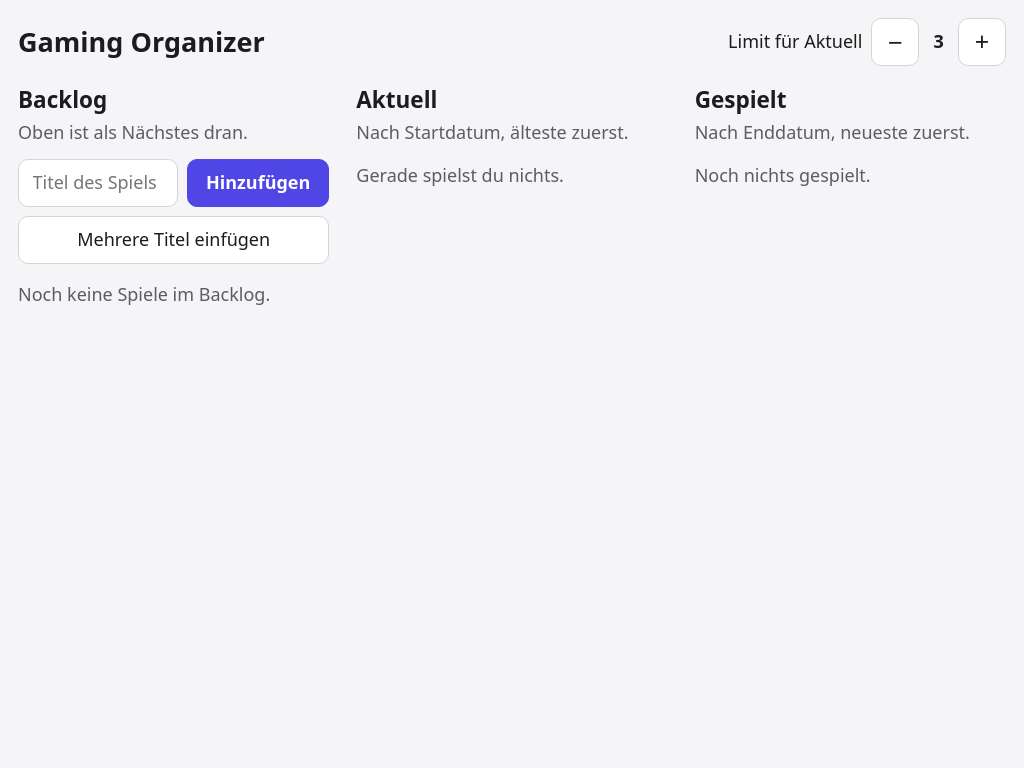
App › moves a Game between the views with buttons
Expected: the heading "Gaming Organizer" is shown, [18,23,265,61]
In the field labelled "Titel des Spiels": (98, 183) [18,159,178,207], type "Hades"
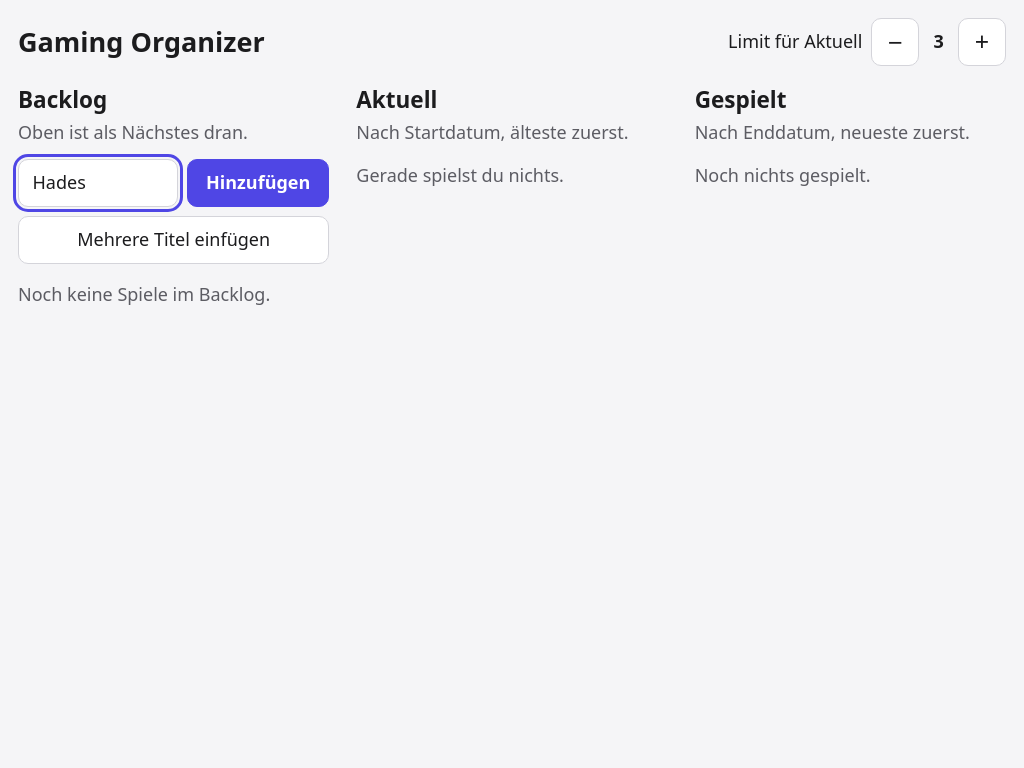
Click the button "Hinzufügen": (258, 183) [187,159,329,207]
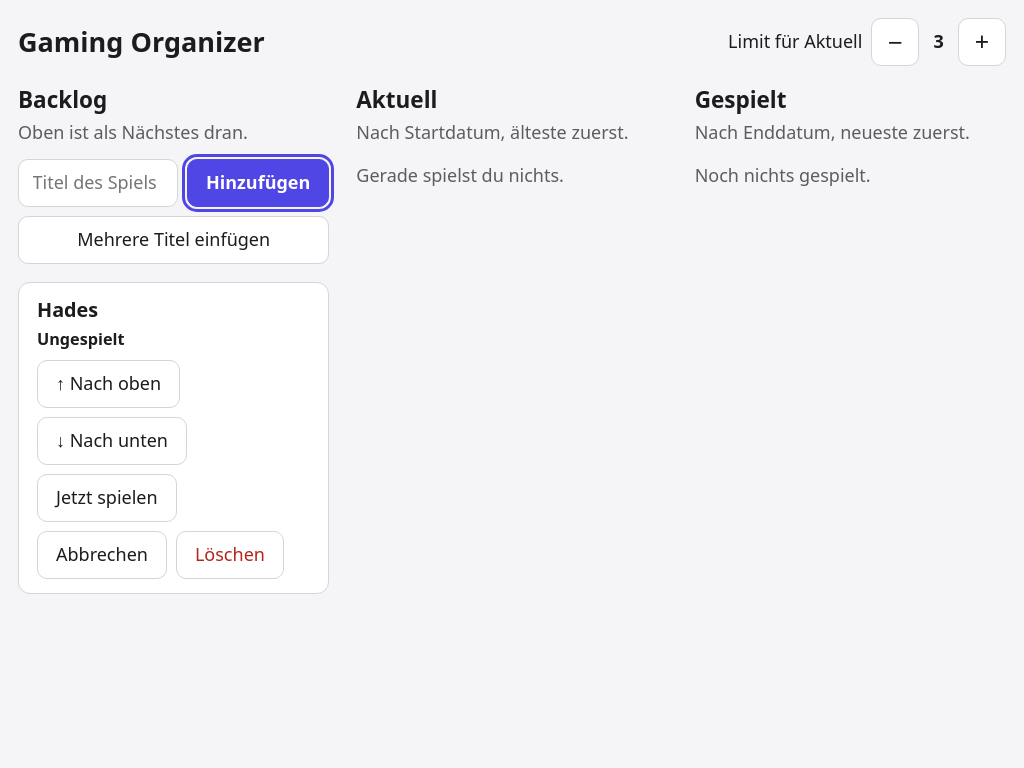
Click the button "Jetzt spielen": (107, 498) [37,474,177,522]
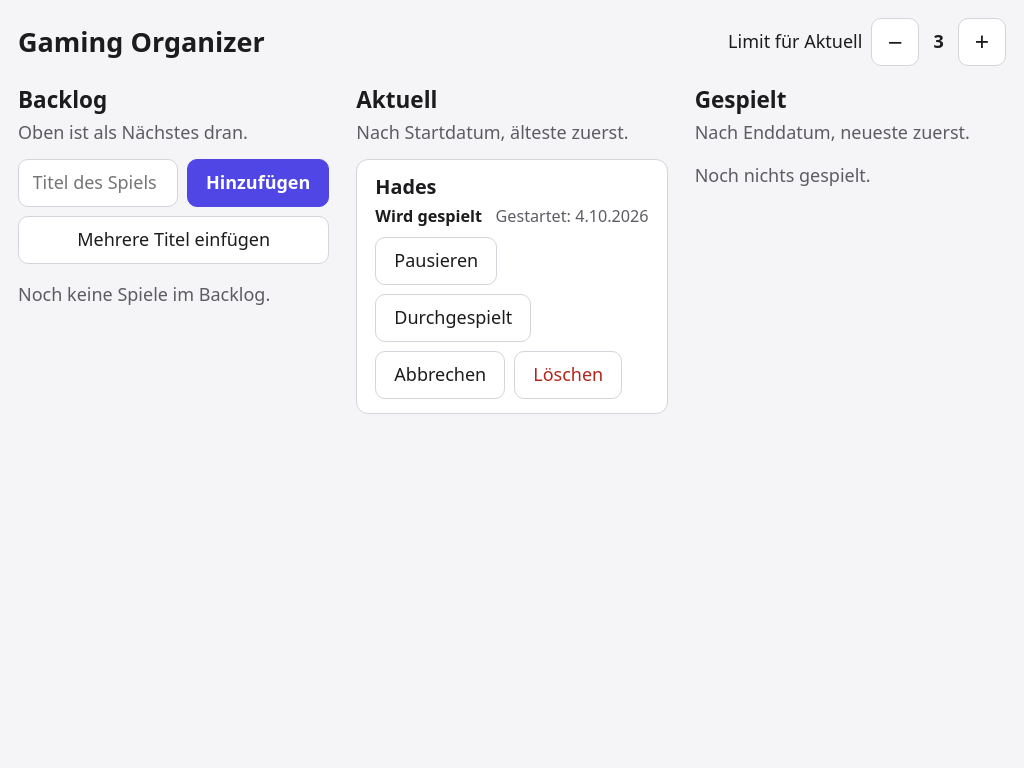
Click the button "Durchgespielt": (453, 318) [375,294,531,342]
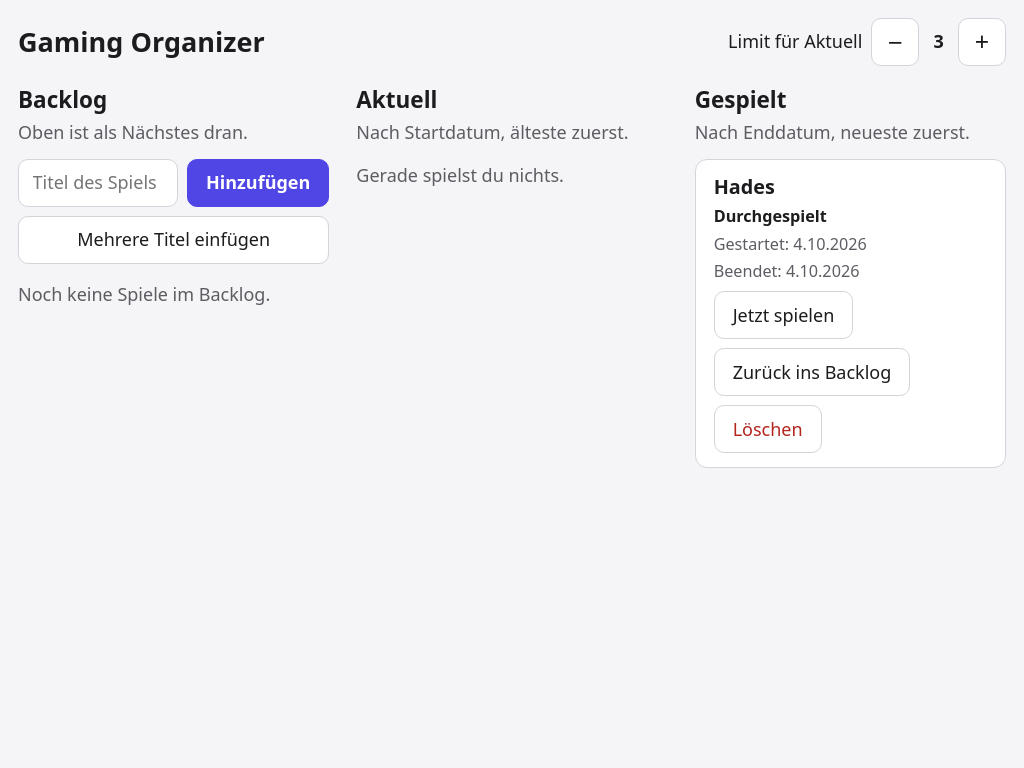
Expected: the text "Beendet: 4.10.2026" is shown, [714,260,860,282]
